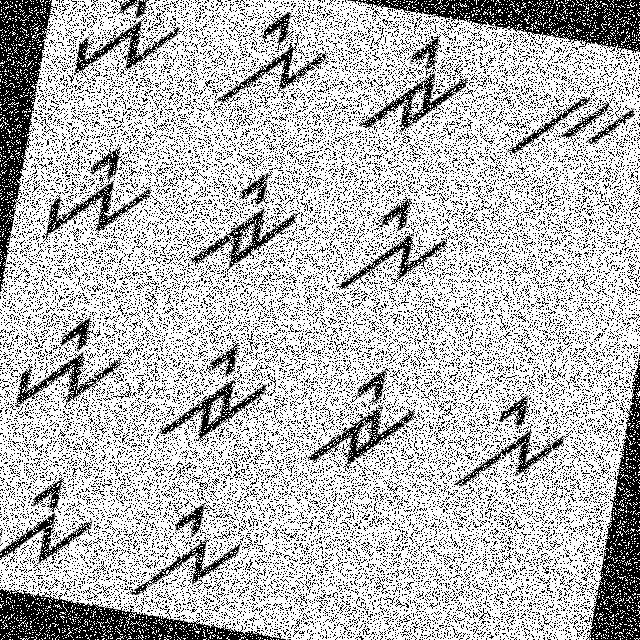li: (115, 482, 252, 618), (446, 376, 577, 508), (326, 185, 459, 315), (215, 2, 336, 128)
ri: (142, 329, 276, 466), (348, 20, 482, 152), (178, 152, 308, 288), (303, 360, 427, 484)
yi: (0, 301, 140, 428), (30, 134, 166, 258), (0, 464, 106, 589), (67, 0, 192, 99)
